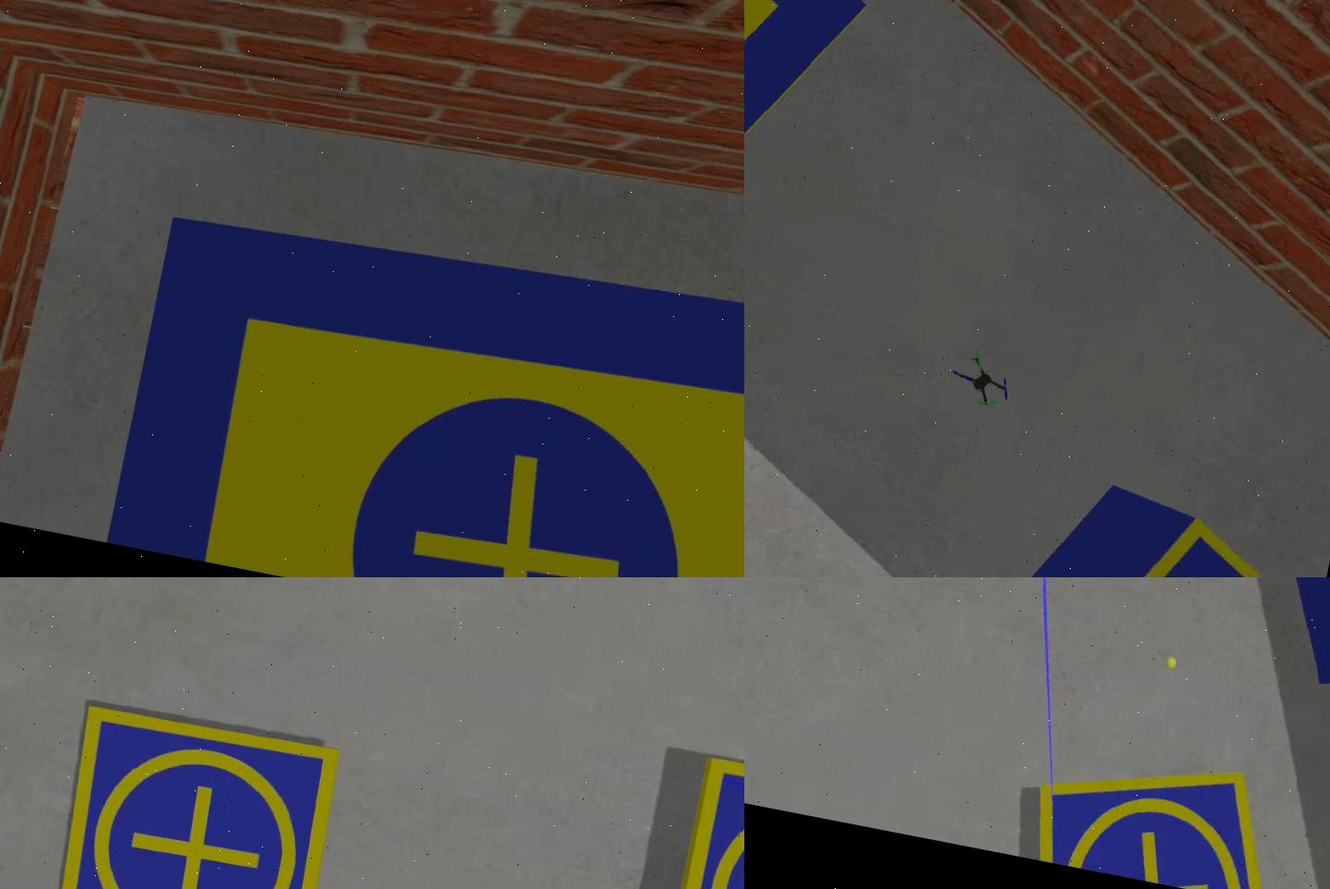large_base: (104, 184, 745, 578)
small_base: (37, 697, 348, 889), (1029, 733, 1293, 889), (1031, 498, 1330, 578)
